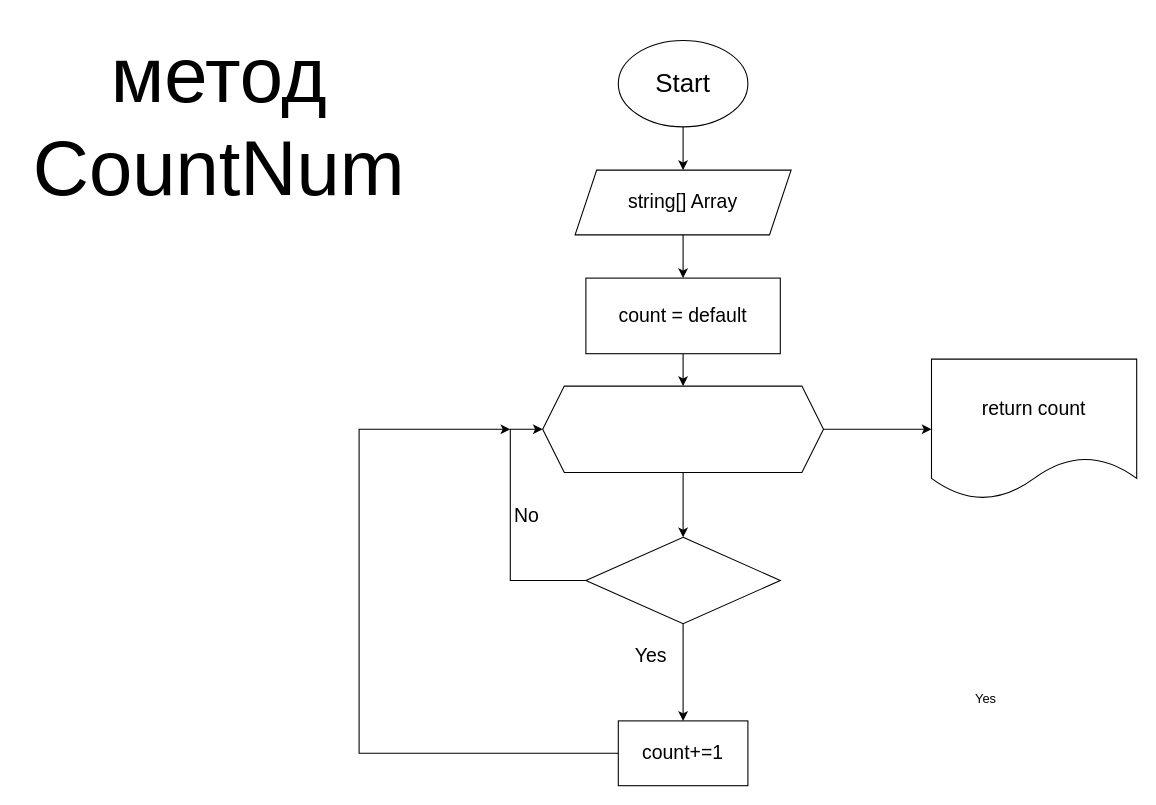
Some shapes in this 1156 by 805 pixel diagram are drawn without their labels. Each missing label, with the centre of its shape:
Array[i].Length<4: (x=682, y=580)
i=0; i<Array.Length; i++: (x=683, y=429)
